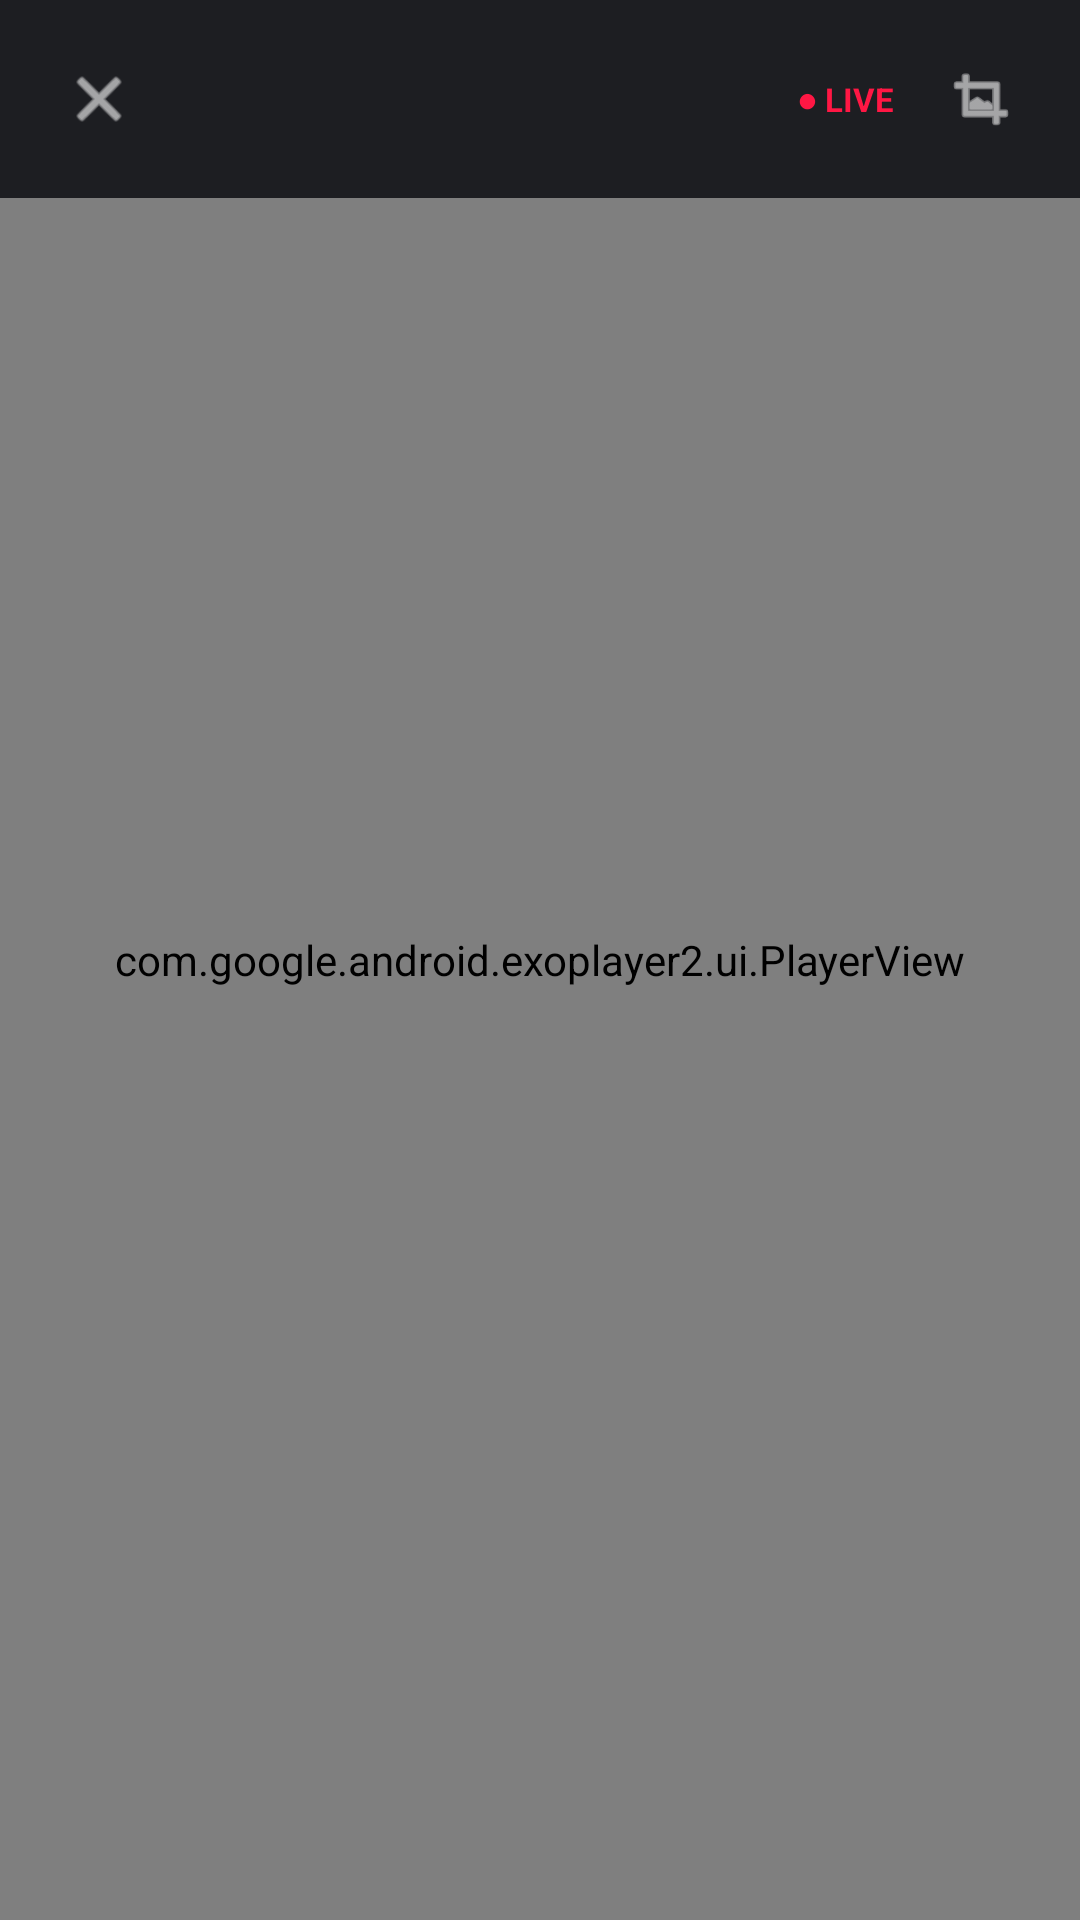

Icons on this 1080*1920 Android screen, each with the point to tap as (x,y):
close clear cancel: (99,99)
crop: (981,99)
